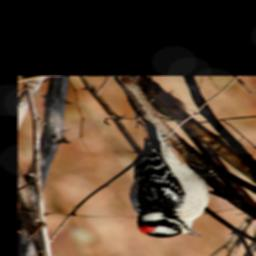Woodpecker: (129, 117, 215, 238)
